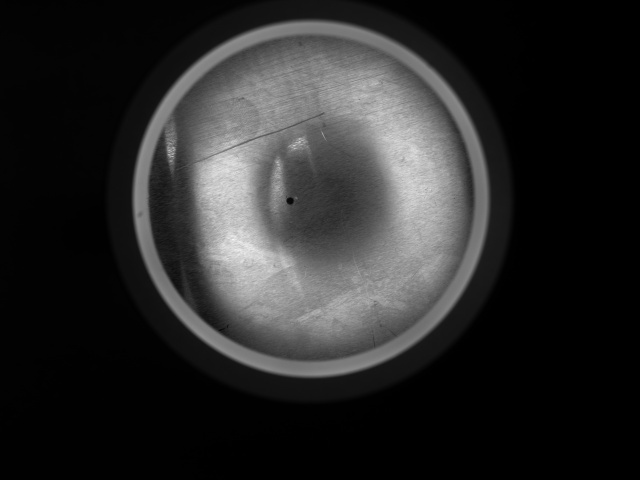ca_shang: (155, 110, 333, 178)
zhen_kong: (283, 191, 298, 210)
